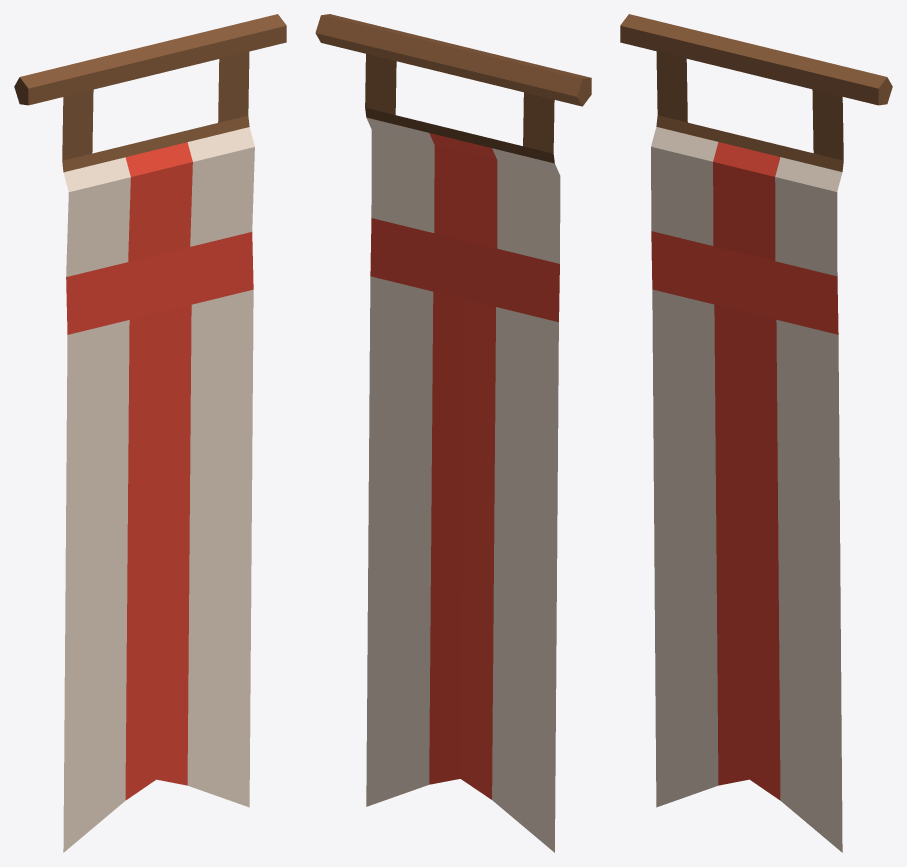
The model's file is medieval-flag-medieval-big.glb.
The picture shows the model from 3 angles, left to right: view 1: azimuth 30°, elevation 25°; view 2: azimuth 150°, elevation 25°; view 3: azimuth 330°, elevation 25°; orthographic projection.
Parts seen in each view (by area): view 1: flag-medieval_big; view 2: flag-medieval_big; view 3: flag-medieval_big.
Boxes of the visible parts, x1,y1,x2,y2 form: flag-medieval_big: [14, 14, 286, 852]; flag-medieval_big: [315, 14, 591, 852]; flag-medieval_big: [620, 14, 892, 852].
Size of the model in its own units: 1.19 by 3.43 by 0.1519.
